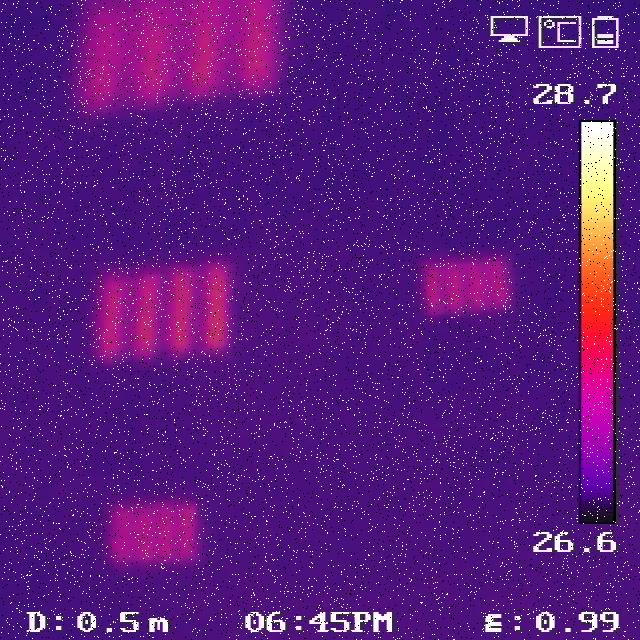Distinguishable 4-bar target: (93, 263, 232, 358)
threshold 4-bar target: (76, 3, 291, 117), (421, 249, 515, 316), (115, 499, 201, 568)
